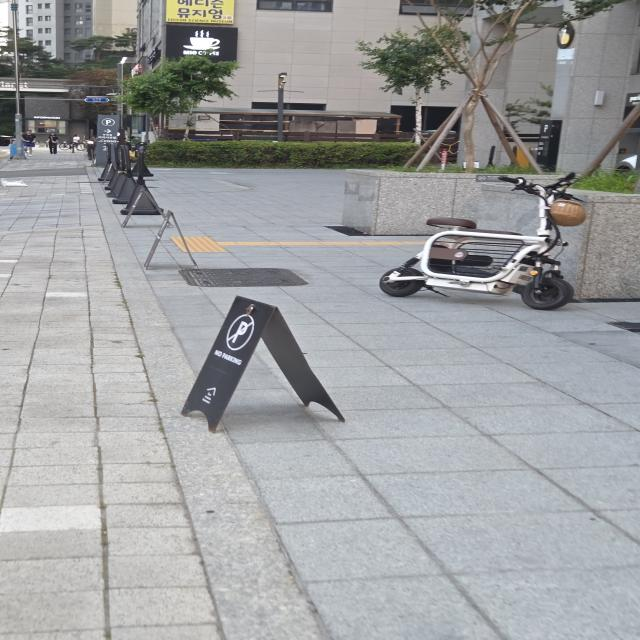bicycle: (364, 149, 596, 315)
